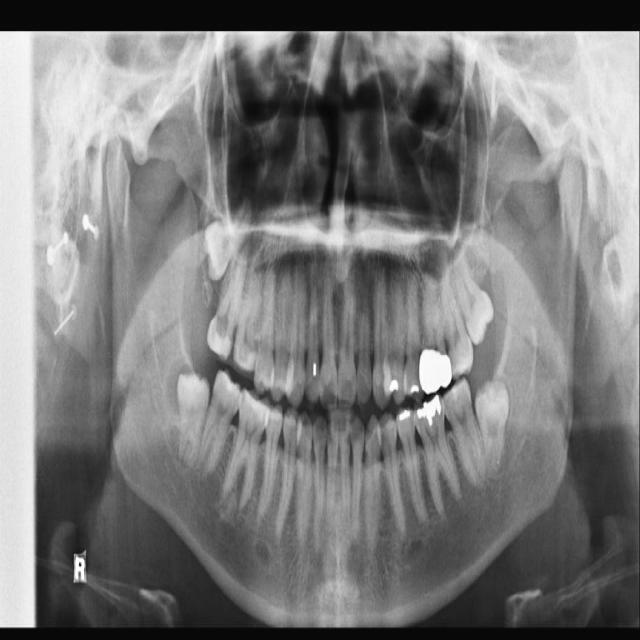Filling: (419, 347, 452, 395), (414, 395, 443, 425), (382, 376, 403, 396), (397, 409, 413, 424), (407, 383, 421, 395)
Periapical lesion: (219, 489, 239, 523), (233, 499, 252, 529), (413, 504, 432, 531), (447, 483, 464, 503)
impacted tooth: (204, 199, 254, 281), (470, 381, 513, 476), (452, 250, 493, 342), (174, 373, 211, 473)
